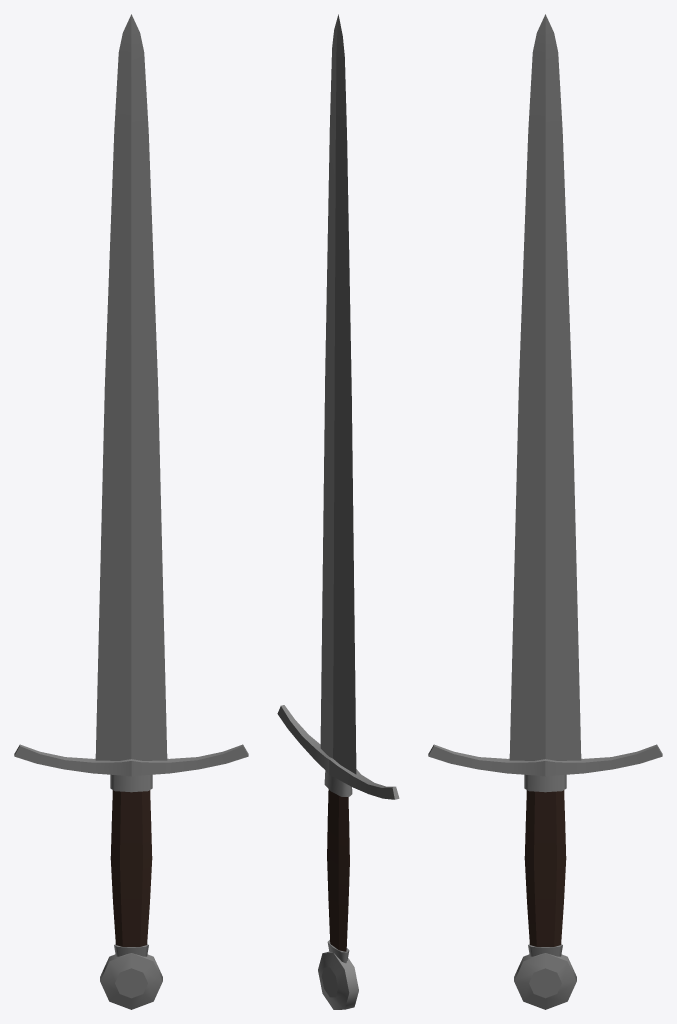
Rendered from kings_sword.gltf.
3 views of the same model, side by side, from view 1: azimuth 90°, elevation 25°; view 2: azimuth 210°, elevation 25°; view 3: azimuth 270°, elevation 25° (orthographic).
Visible parts, largest first — view 1: Cylinder; view 2: Cylinder; view 3: Cylinder.
Boxes of the visible parts, bbox=[...] form: Cylinder: bbox=[14, 14, 248, 1009]; Cylinder: bbox=[277, 14, 399, 1009]; Cylinder: bbox=[428, 14, 662, 1009].
Bounding box in the file's own units: 0.0187 × 0.9818 × 0.2101.
